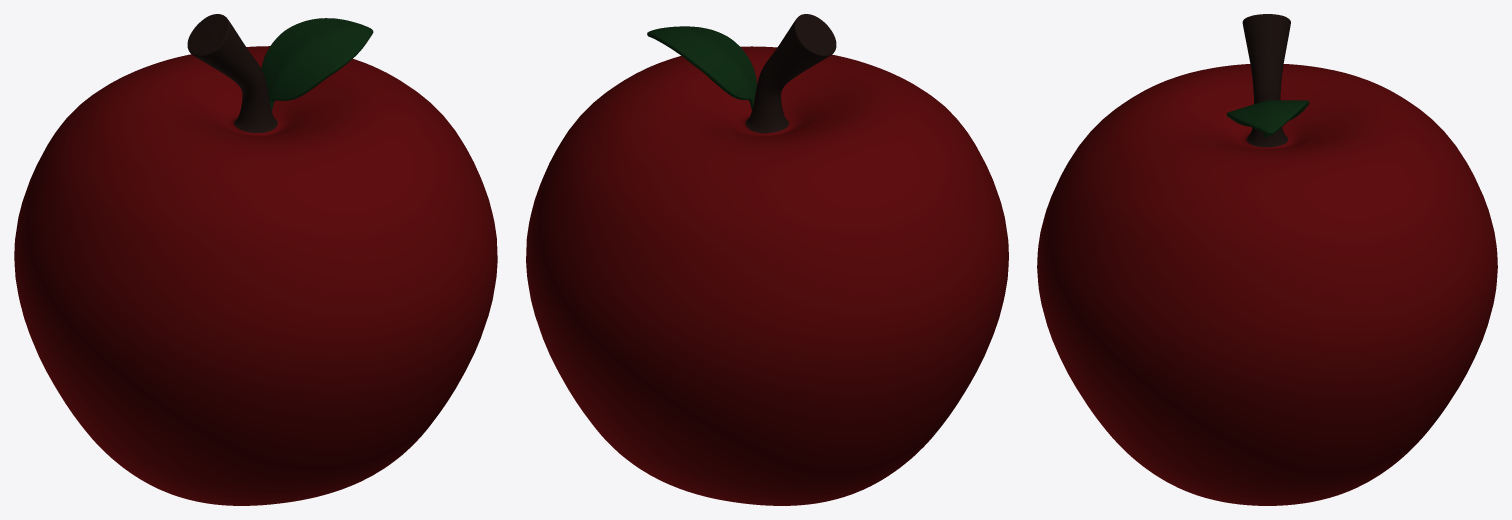
Rendered from Apple.fbx.
3 renders of one model, left to right at view 1: azimuth 30°, elevation 25°; view 2: azimuth 150°, elevation 25°; view 3: azimuth 270°, elevation 25°, orthographic. The views are drawn at different scales.
Visible parts, largest first — view 1: Apple; view 2: Apple; view 3: Apple.
Part boxes in pixels (x1,y1,x2,y2): Apple: (14,14,497,505); Apple: (526,14,1008,505); Apple: (1037,14,1497,505).
Size of the model in its own units: 6.27 by 6.58 by 6.27.
